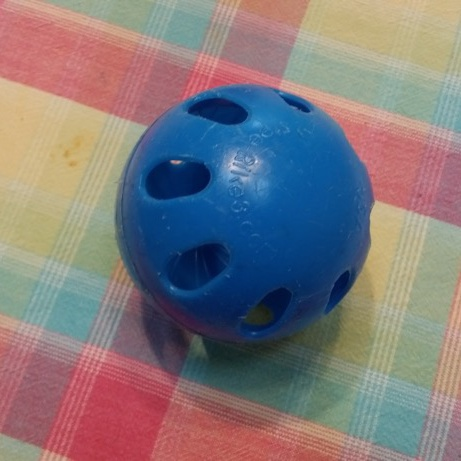blueball: (109, 76, 378, 350)
